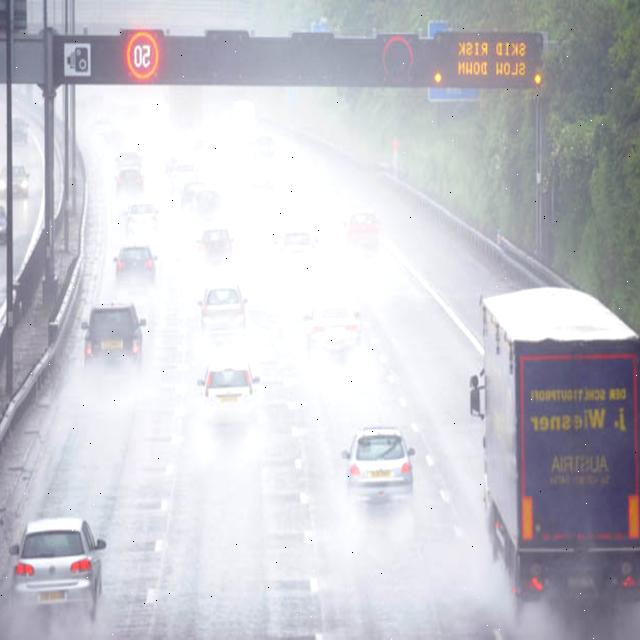Car: (10, 515, 106, 623), (342, 423, 416, 505), (82, 300, 146, 376), (198, 357, 260, 422), (303, 297, 361, 360), (197, 282, 248, 334), (273, 224, 320, 274), (112, 242, 157, 286), (342, 209, 380, 251), (195, 226, 235, 265), (122, 198, 160, 235), (169, 161, 199, 196), (1, 162, 30, 198), (246, 174, 276, 207), (192, 187, 221, 221), (116, 166, 144, 194), (181, 179, 207, 209), (115, 151, 144, 175), (251, 134, 277, 160), (167, 152, 194, 176), (101, 127, 124, 151), (92, 119, 114, 143), (193, 136, 216, 158), (12, 117, 30, 141)
Truck: (478, 287, 640, 615), (232, 100, 257, 141)
